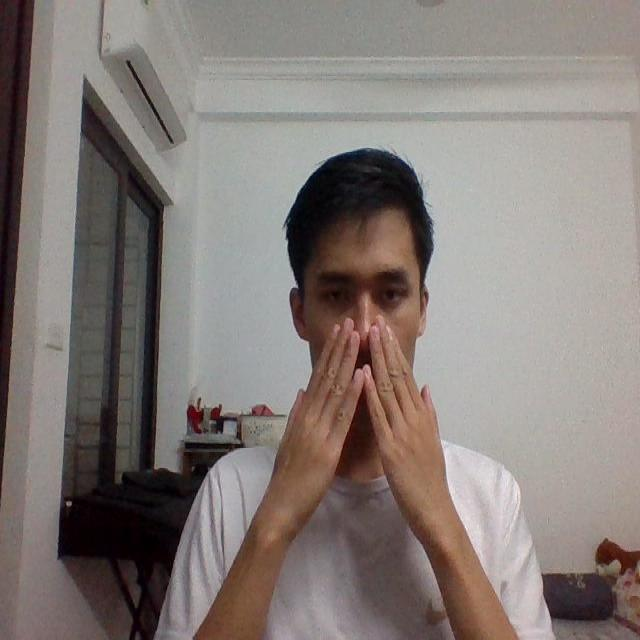thanks: (267, 312, 447, 510)
